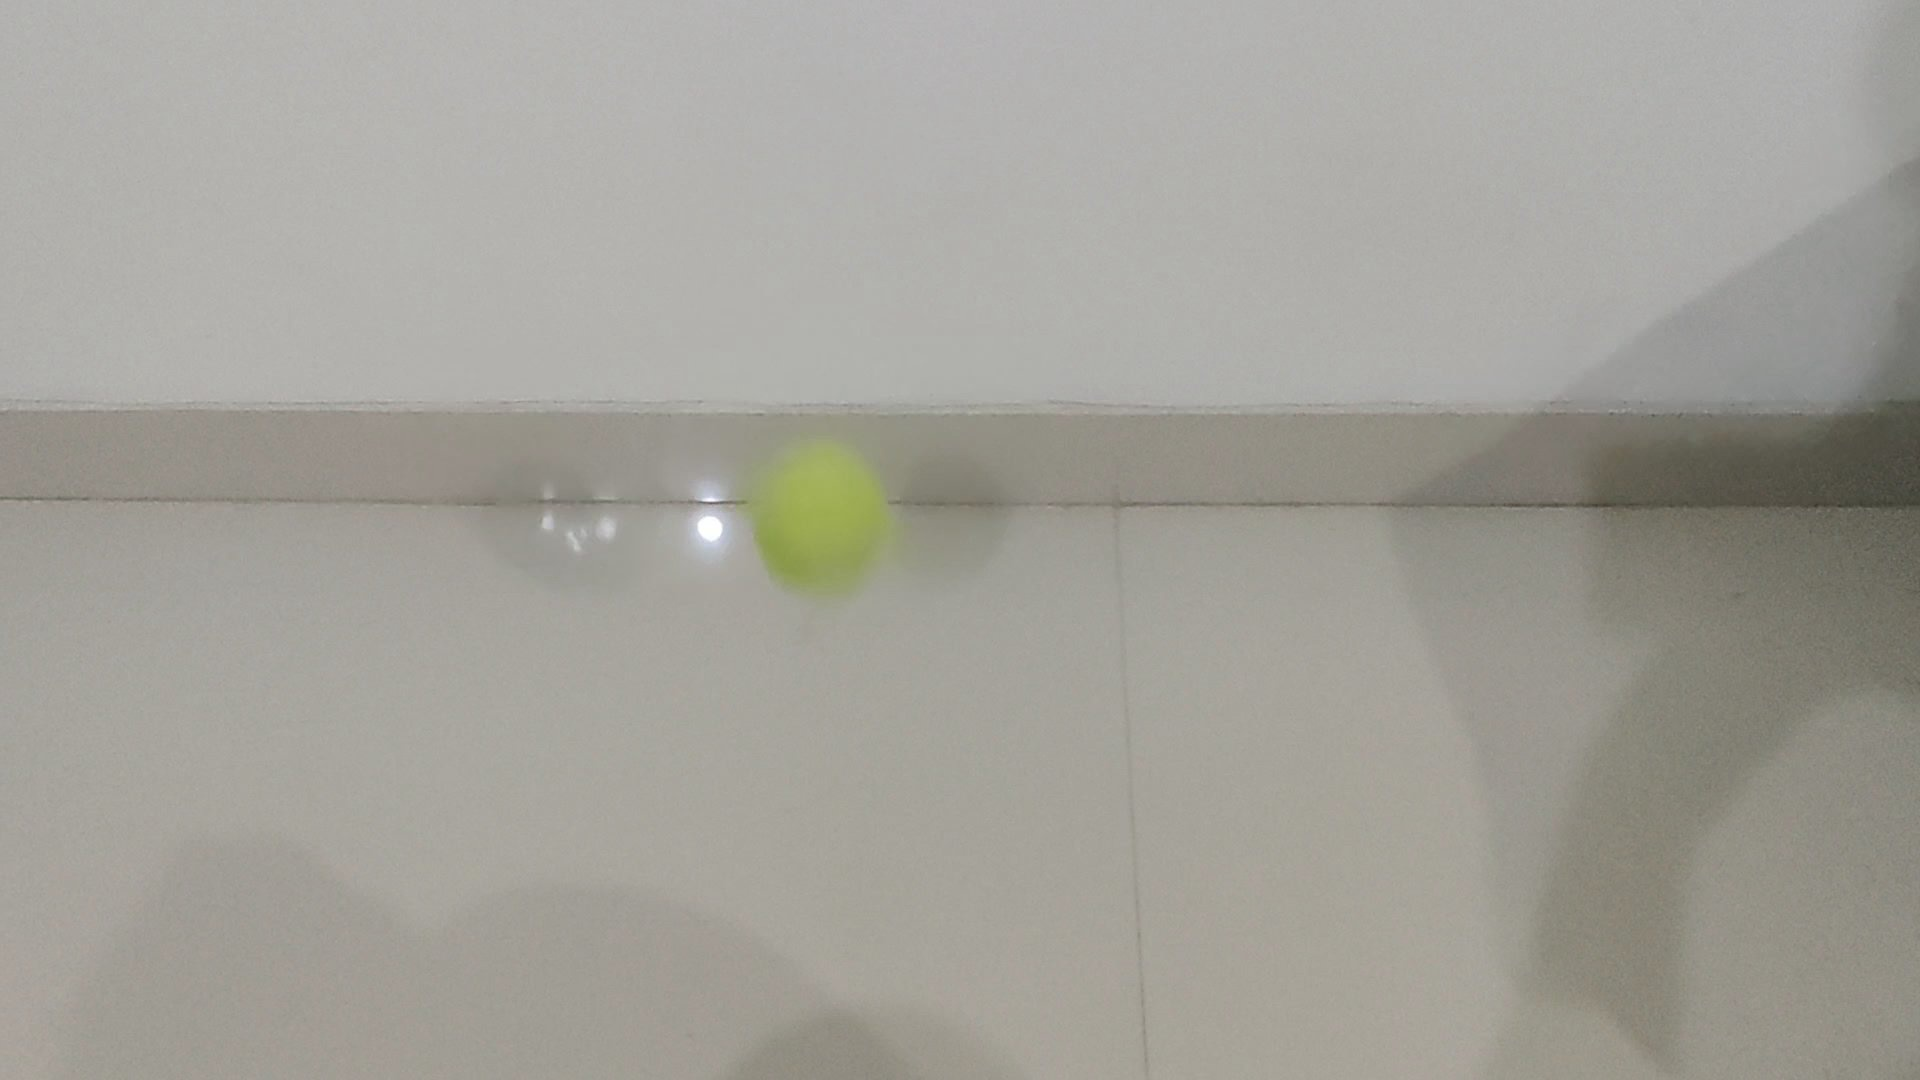Tennis-Ball: (756, 444, 887, 593)
